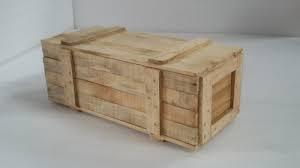wood: (39, 20, 245, 154)
